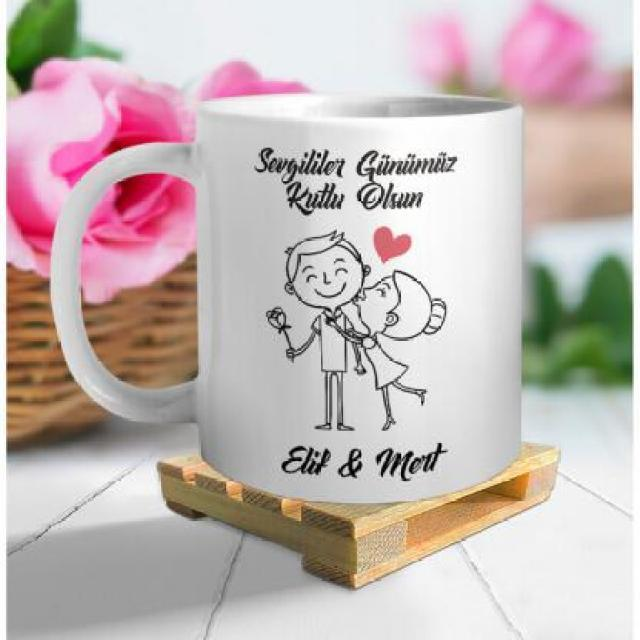taza: (52, 92, 570, 504)
